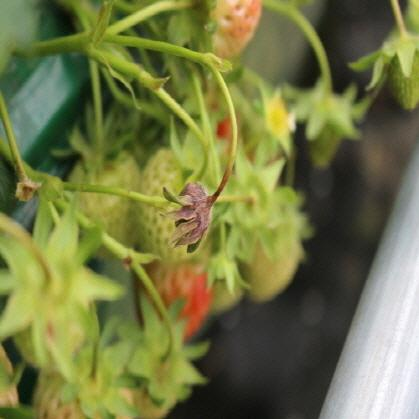Gray Mold: (159, 181, 223, 253)
